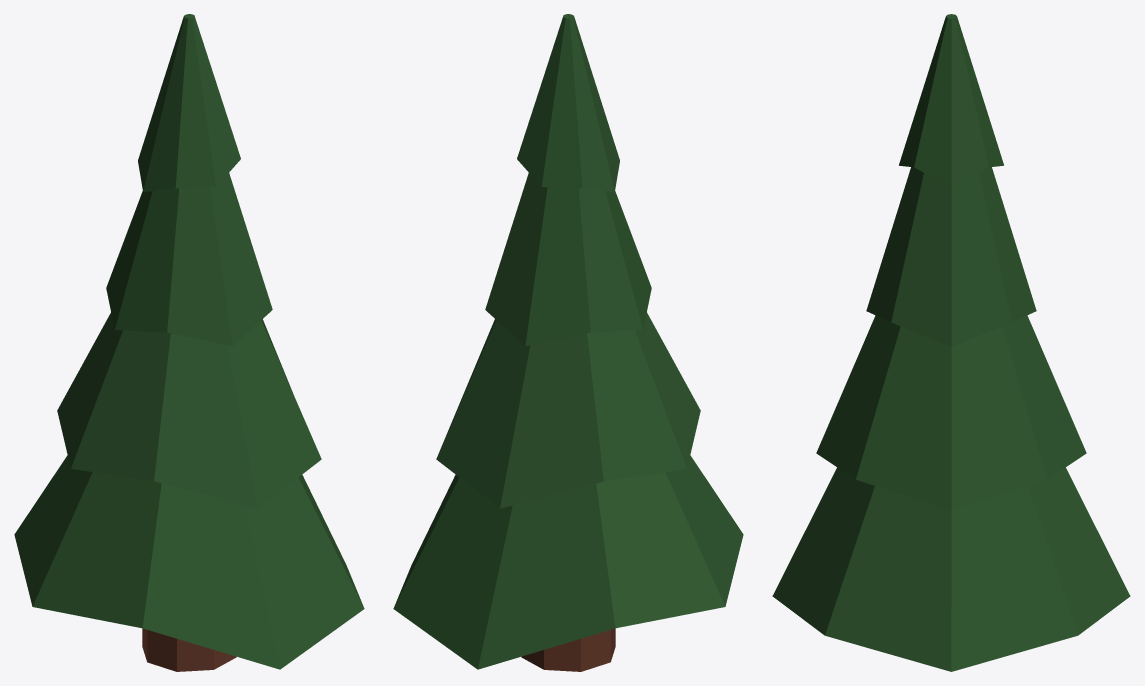
File: arbol_one.fbx
3 renders of one model, left to right at view 1: azimuth 30°, elevation 25°; view 2: azimuth 150°, elevation 25°; view 3: azimuth 270°, elevation 25°, orthographic.
Parts seen in each view (by area): view 1: arbol, tronco; view 2: arbol, tronco; view 3: arbol.
Part boxes in pixels (x1,y1,x2,y2): arbol: (14,14,364,669); tronco: (142,628,236,671); arbol: (393,14,743,669); tronco: (521,628,615,671); arbol: (772,14,1130,671).
Size of the model in its own units: 404 by 782 by 404.
